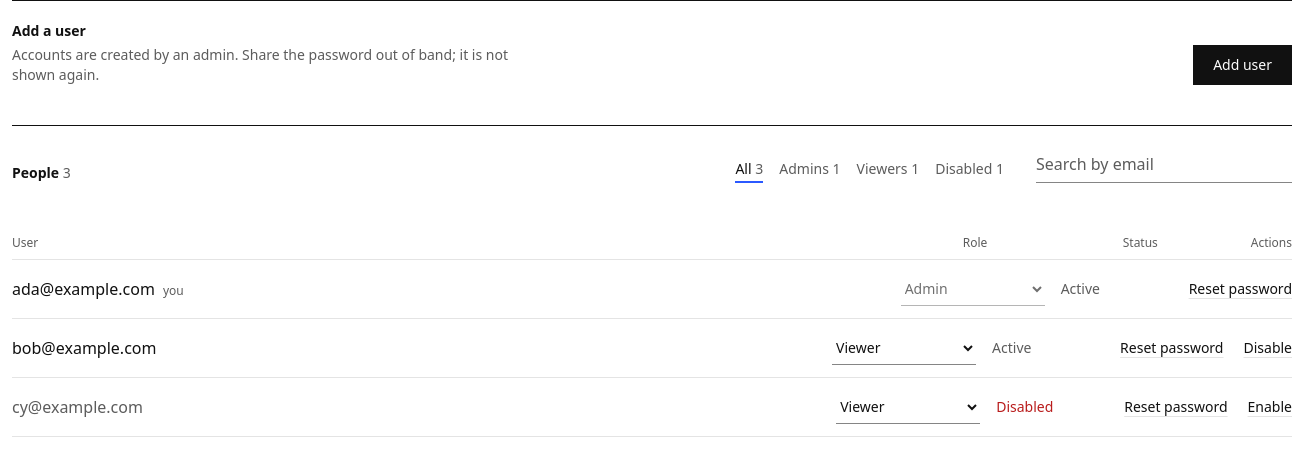
Test: UserManager › filters by search and by status
The width and height of the screenshot is (1304, 454).
Type "bob" into the search field named "Search users by email" at (1164, 164), box [1036,146,1292,183]
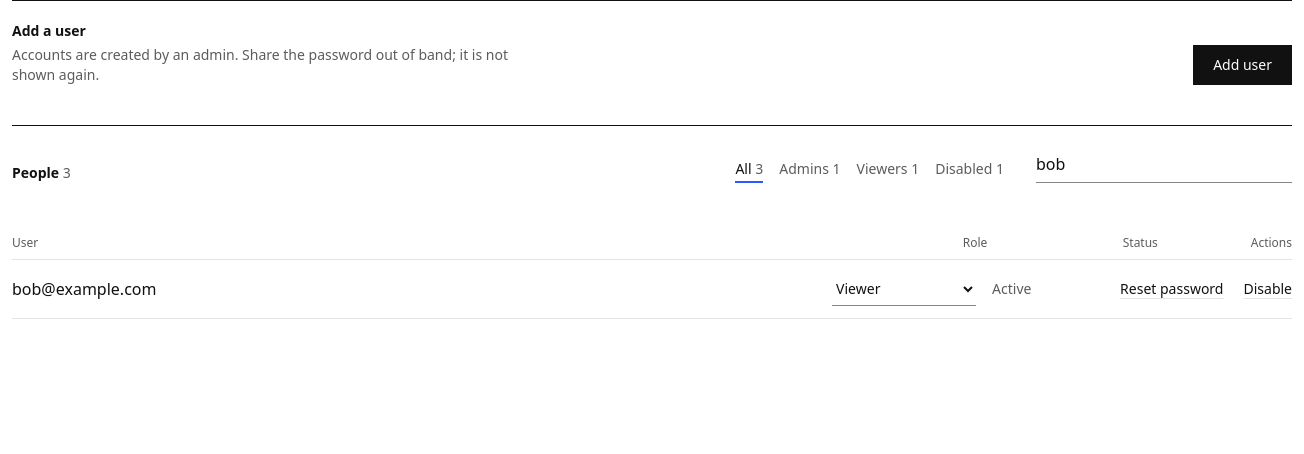
Expected: the text "bob@example.com" is shown, [12,278,156,300]
Now the text "ada@example.com" is gone
Clear the search field named "Search users by email" at (1164, 164), box [1036,146,1292,183]
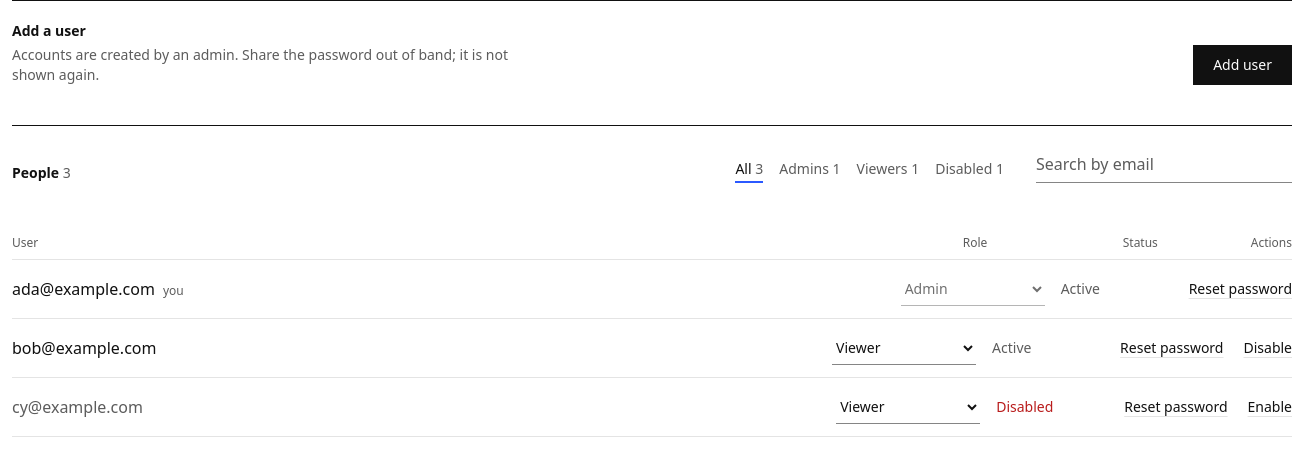
Click the button "Disabled 1" at (970, 171), box [935,159,1004,183]
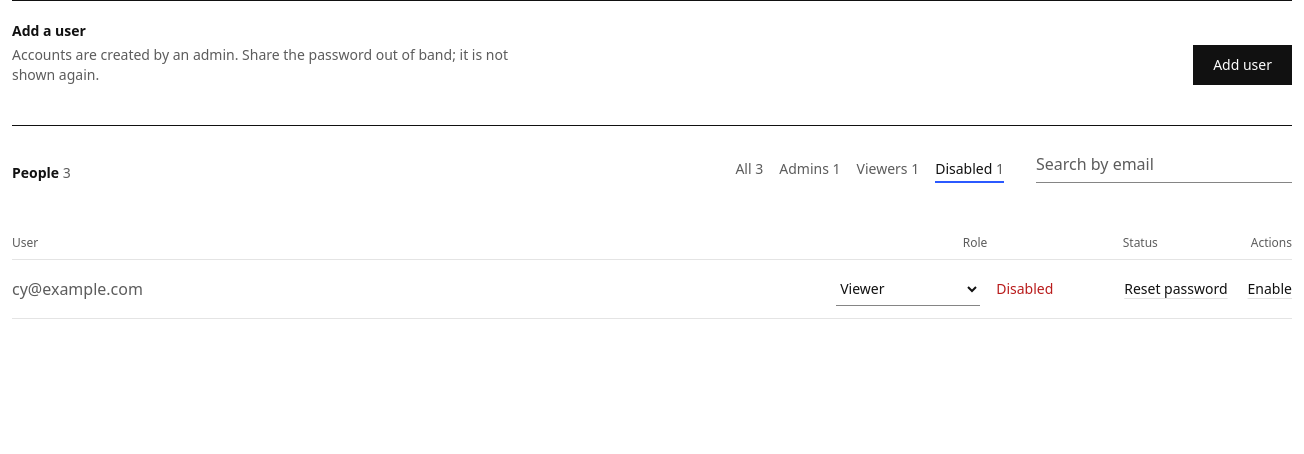
Now the text "cy@example.com" is shown, box [12,278,143,300]
Now the text "bob@example.com" is gone
